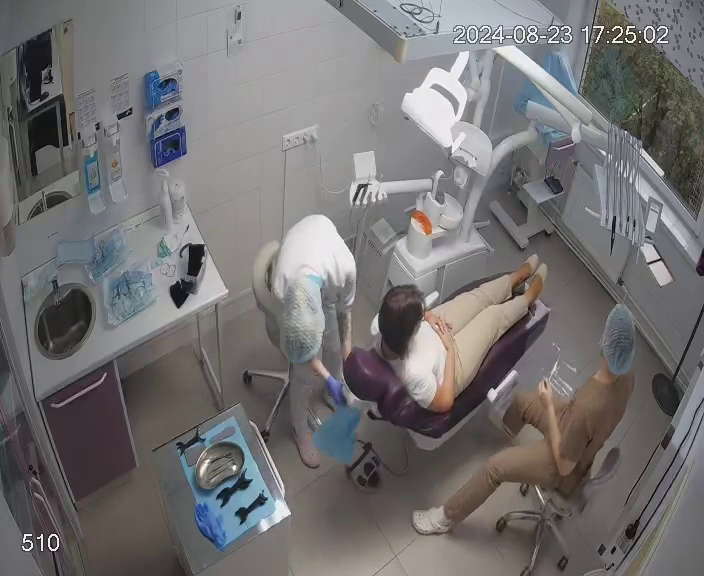Patient: (341, 248, 552, 442)
